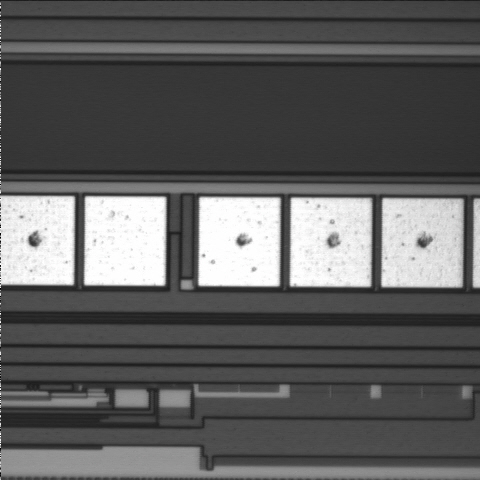pad: (84, 196, 166, 286), (198, 197, 280, 286), (290, 198, 372, 287), (382, 198, 463, 287)
